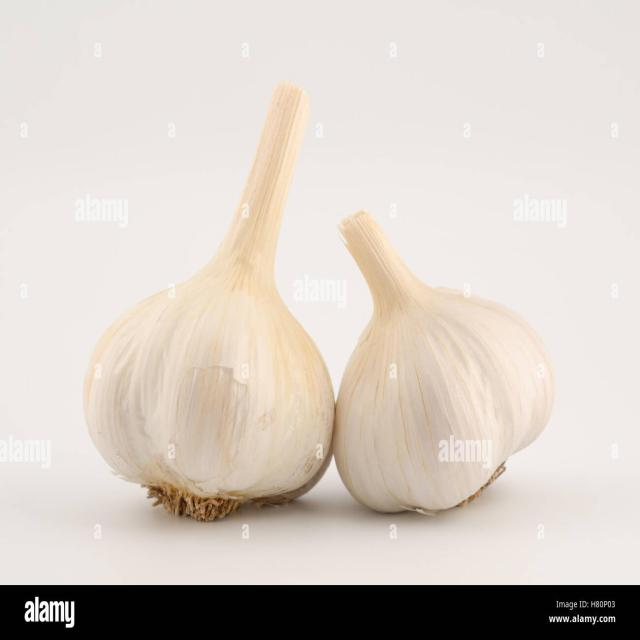garlic: (80, 267, 564, 514)
